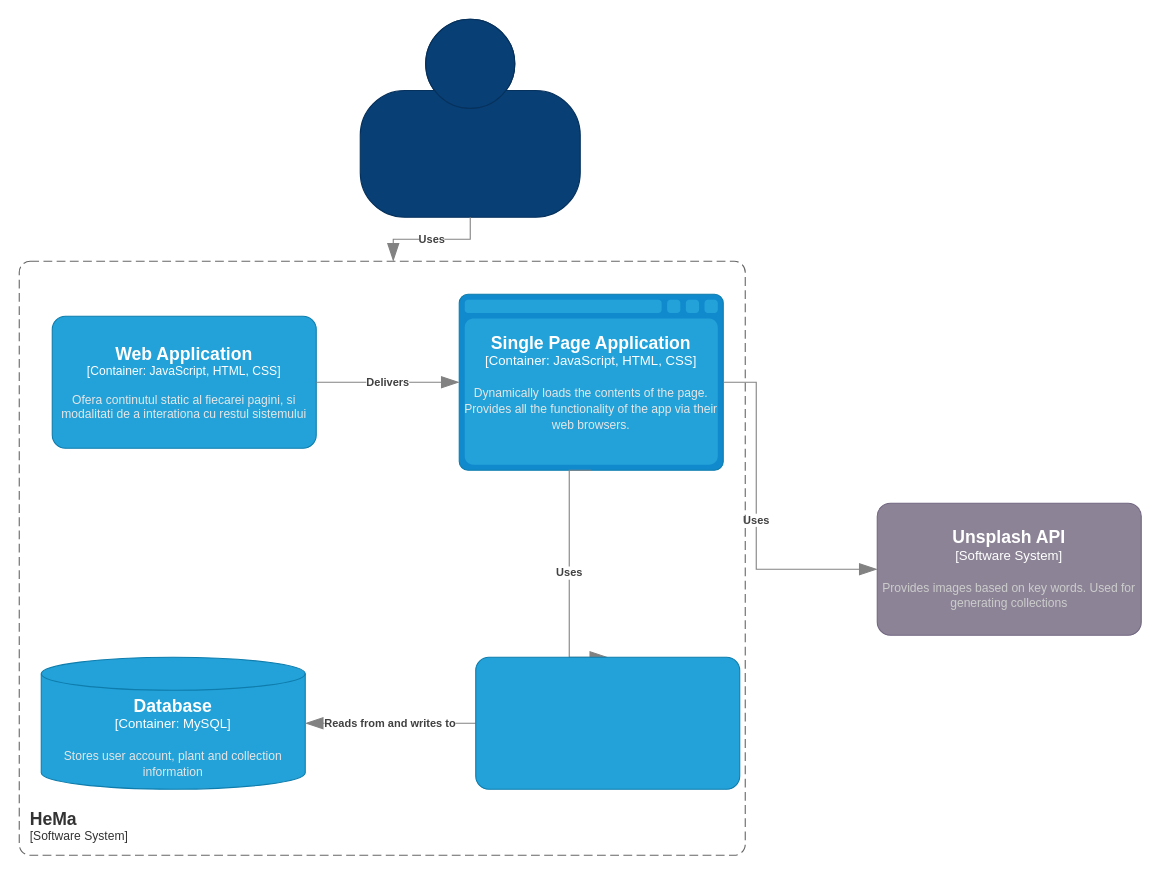
The diagram is 1161 pixels wide and 875 high, and some of its shapes have lost their labels. The centre of each missing label's shape, as x and y in pixels:
API Application [Container: PHP] Provides app functionality via JSON/HTTP API: point 607,722
User [Person] Those with an interest in gardening and plant collecting: point 469,117
